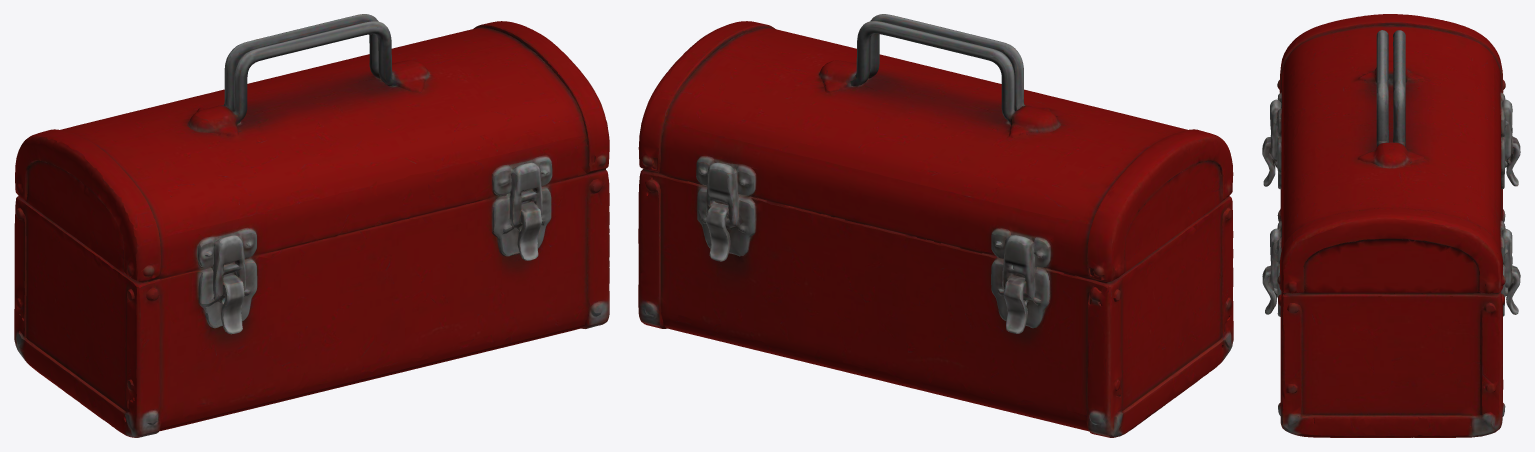
Rendered from parts.glb.
3 views of the same model, side by side, from view 1: azimuth 30°, elevation 25°; view 2: azimuth 150°, elevation 25°; view 3: azimuth 270°, elevation 25° (orthographic). The views are drawn at different scales.
Bounding box in the file's own units: 0.45 × 0.2824 × 0.237.
Materials: 7 (7 with a texture image).
